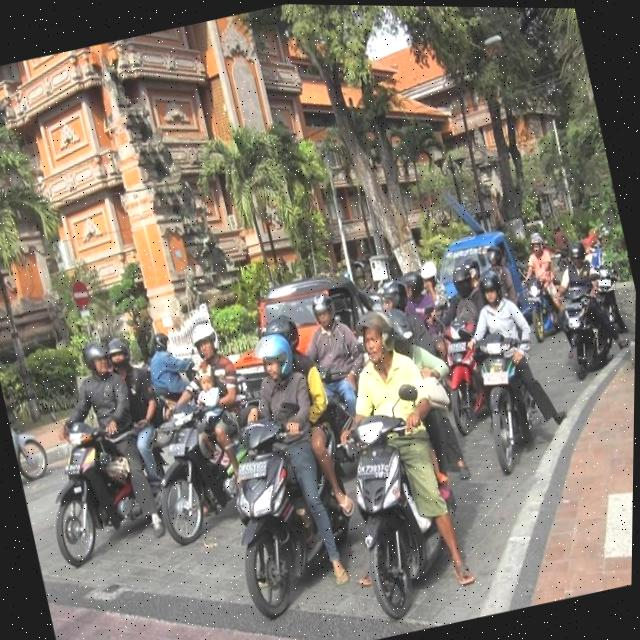motorcycle: (318, 382, 480, 633), (202, 400, 347, 629), (33, 410, 167, 573), (131, 389, 253, 551), (455, 320, 564, 483), (545, 273, 630, 384)
plate: (231, 450, 277, 486), (476, 355, 513, 390)
